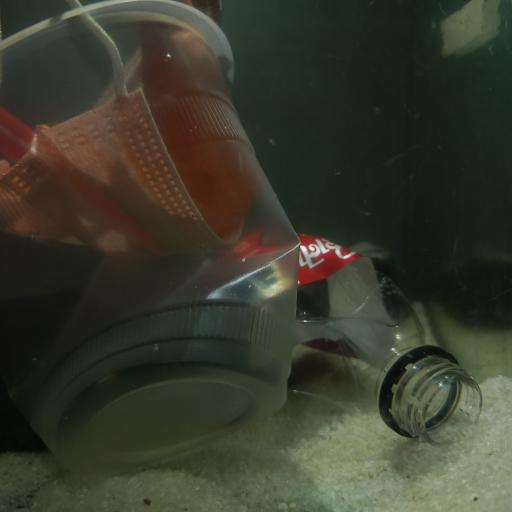mask: (0, 0, 261, 250)
plastic_bottle: (289, 230, 484, 442)
plastic_cup: (0, 0, 300, 464)
